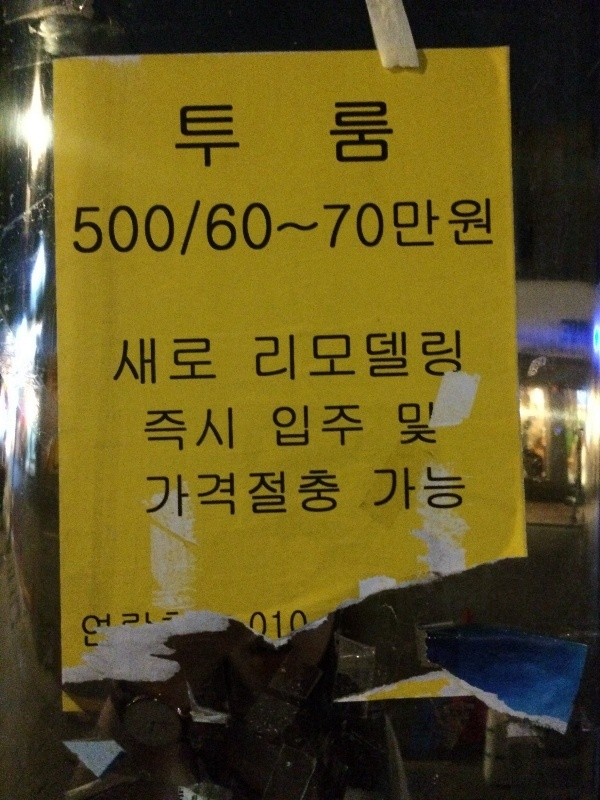text: (2, 537, 16, 637), (177, 97, 192, 171), (193, 97, 208, 171), (209, 97, 224, 171), (225, 97, 240, 171), (241, 97, 256, 171), (257, 97, 272, 171), (273, 97, 288, 171), (289, 97, 304, 171), (305, 97, 320, 171), (321, 97, 336, 171), (337, 97, 352, 171), (353, 97, 368, 171), (369, 97, 384, 171), (81, 196, 96, 264), (97, 196, 112, 264), (113, 196, 128, 264), (129, 196, 144, 264), (145, 196, 160, 264), (161, 196, 176, 264), (177, 196, 192, 264), (193, 196, 208, 264), (209, 196, 224, 264), (225, 196, 240, 264), (241, 196, 256, 264), (257, 196, 272, 264), (273, 196, 288, 264), (289, 196, 304, 264), (305, 196, 320, 264), (321, 196, 336, 264), (337, 196, 352, 264), (353, 196, 368, 264), (369, 196, 384, 264), (385, 196, 400, 264), (401, 196, 416, 264), (417, 196, 432, 264), (433, 196, 448, 264), (449, 196, 464, 264), (465, 196, 480, 264), (481, 196, 496, 264), (129, 332, 144, 392), (145, 332, 160, 392), (161, 332, 176, 392), (177, 332, 192, 392), (193, 332, 208, 392), (17, 537, 26, 637), (385, 97, 396, 171), (257, 328, 272, 380), (273, 328, 288, 380), (289, 328, 304, 380), (305, 328, 320, 380), (321, 328, 336, 380), (337, 328, 352, 380), (353, 328, 368, 380), (369, 328, 384, 380), (385, 328, 400, 380), (401, 328, 416, 380), (417, 328, 432, 380), (433, 328, 448, 380), (145, 469, 160, 521), (161, 469, 176, 521), (177, 469, 192, 521), (193, 469, 208, 521), (209, 469, 224, 521), (225, 469, 240, 521), (241, 469, 256, 521), (257, 469, 272, 521), (273, 469, 288, 521), (289, 469, 304, 521), (305, 469, 320, 521), (321, 469, 336, 521), (81, 609, 96, 659), (97, 609, 112, 659), (113, 609, 128, 659), (129, 609, 144, 659), (145, 609, 160, 659), (161, 609, 176, 659), (401, 400, 416, 449), (417, 400, 432, 449), (449, 328, 463, 380), (273, 403, 288, 451), (289, 403, 304, 451), (305, 403, 320, 451), (321, 403, 336, 451), (337, 403, 352, 451), (385, 464, 400, 512), (401, 464, 416, 512), (417, 464, 432, 512), (433, 464, 448, 512), (449, 464, 464, 512), (145, 407, 160, 453), (161, 407, 176, 453), (177, 407, 192, 453), (193, 407, 208, 453), (209, 407, 224, 453), (353, 403, 367, 451), (337, 469, 348, 521), (241, 606, 256, 644), (257, 606, 272, 644), (273, 606, 288, 644), (289, 606, 304, 644), (209, 332, 218, 392), (373, 464, 384, 512), (561, 315, 576, 349), (577, 315, 592, 349), (73, 196, 80, 264), (121, 332, 128, 392), (225, 407, 234, 453), (177, 609, 182, 659), (433, 400, 438, 449), (305, 606, 311, 644), (235, 606, 240, 644), (174, 97, 176, 171), (397, 400, 400, 449), (254, 328, 256, 380), (142, 407, 144, 453), (558, 315, 560, 349), (465, 464, 466, 512)
